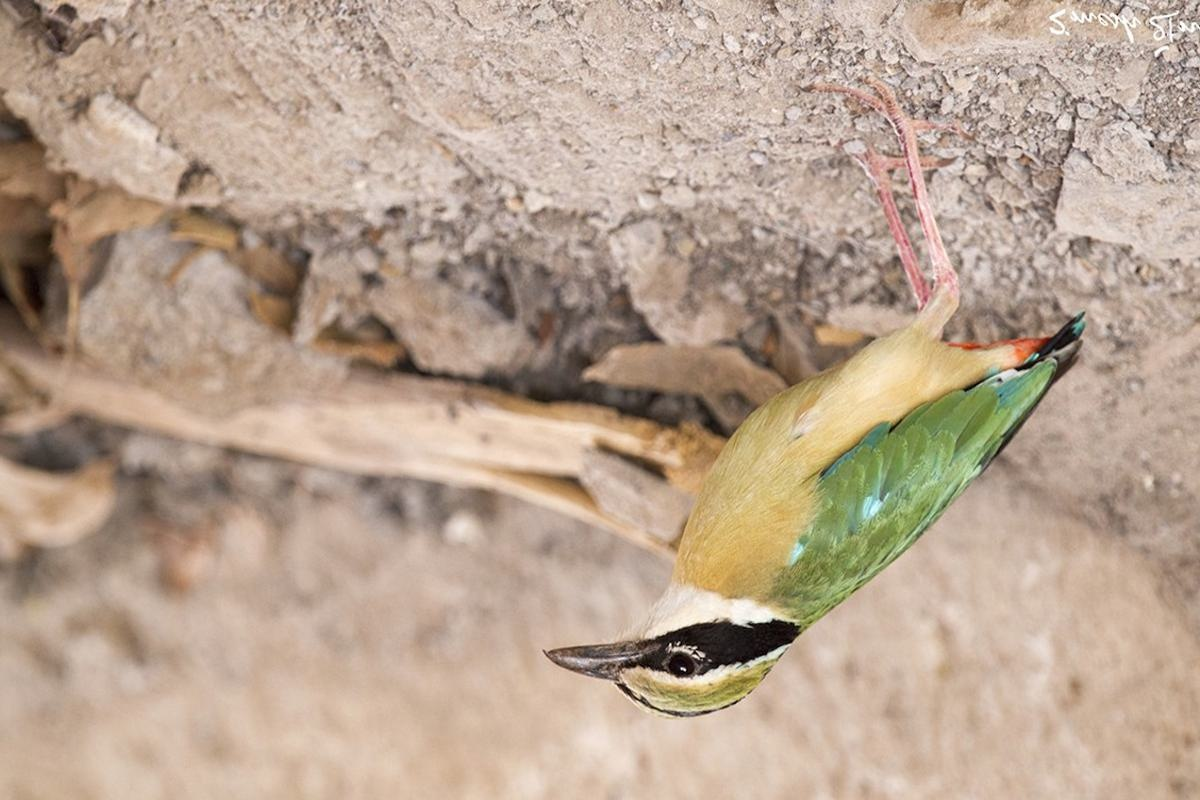pitta: (525, 133, 1098, 741)
